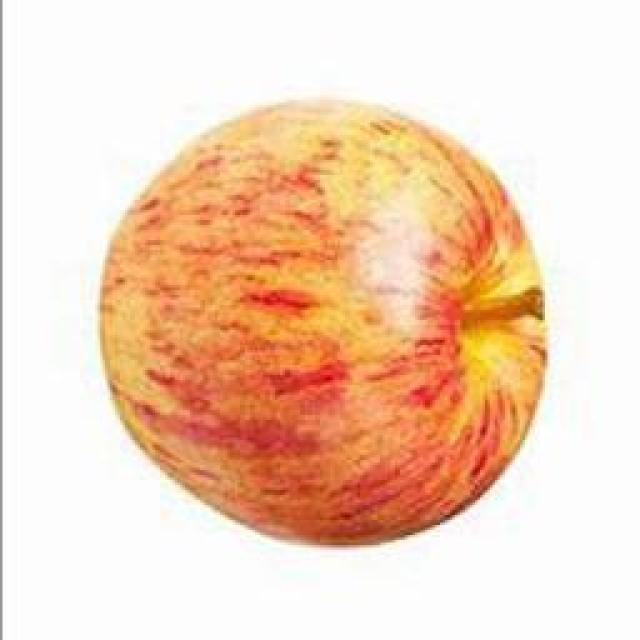apple: (97, 95, 548, 546)
